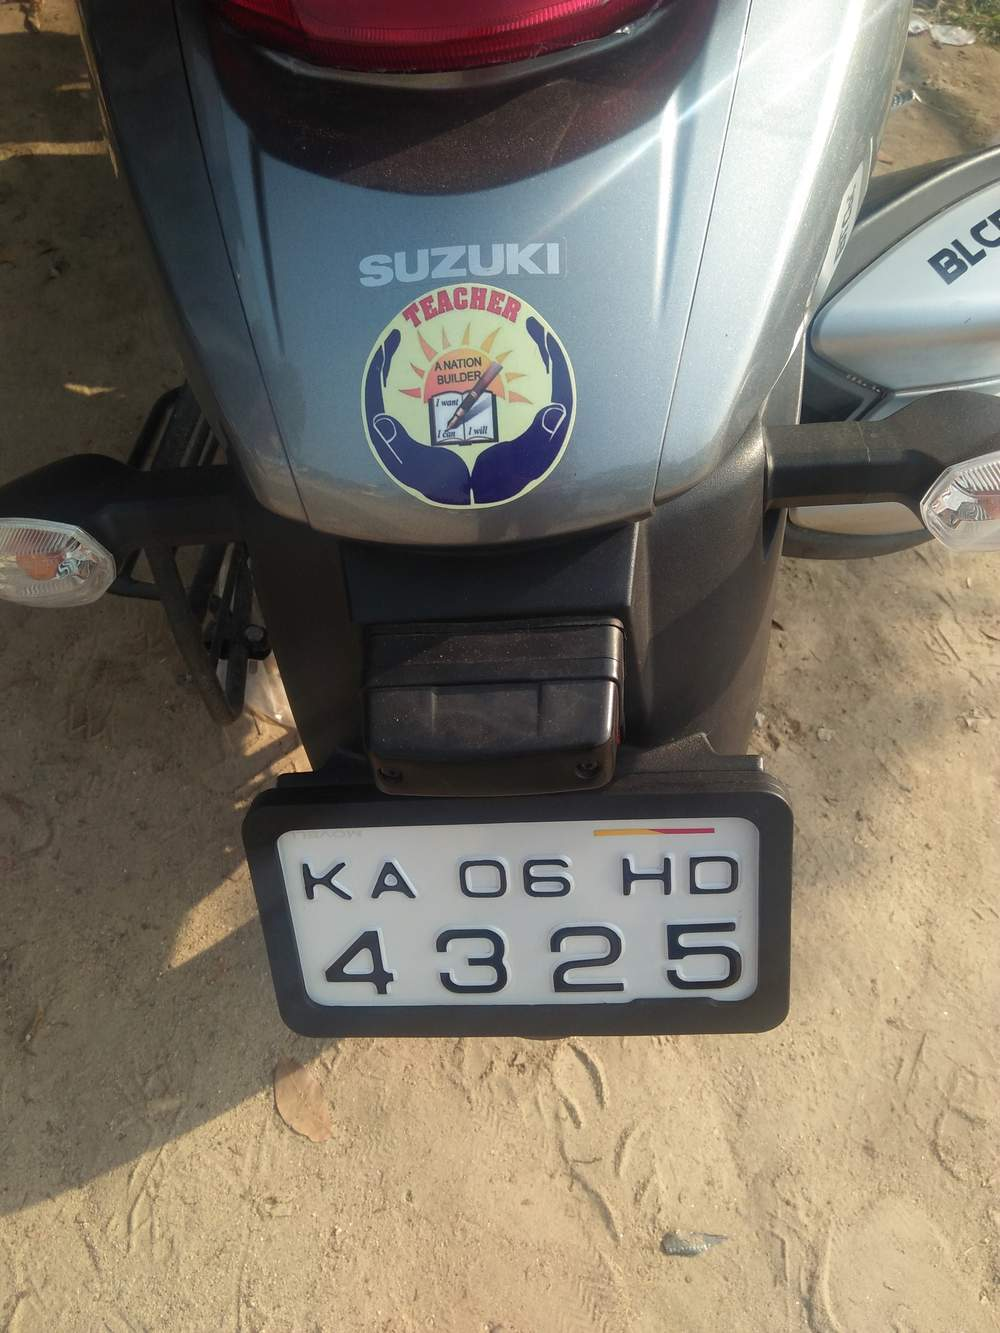number_plate: (207, 756, 818, 1068)
